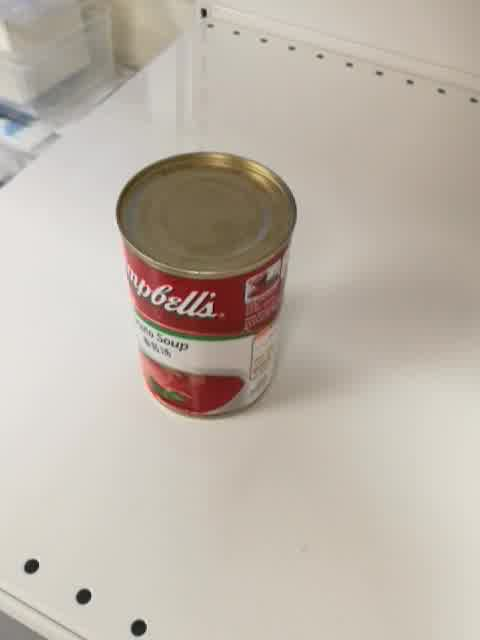tomatosoup: (113, 149, 299, 421)
